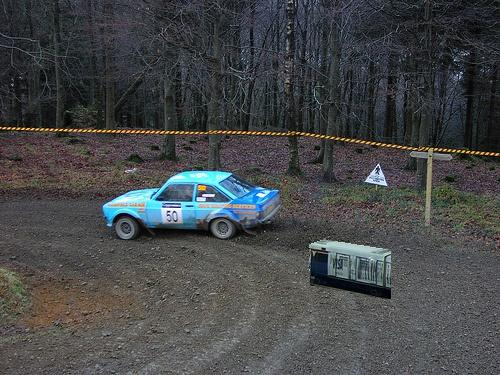tampered: (310, 240, 391, 299)
